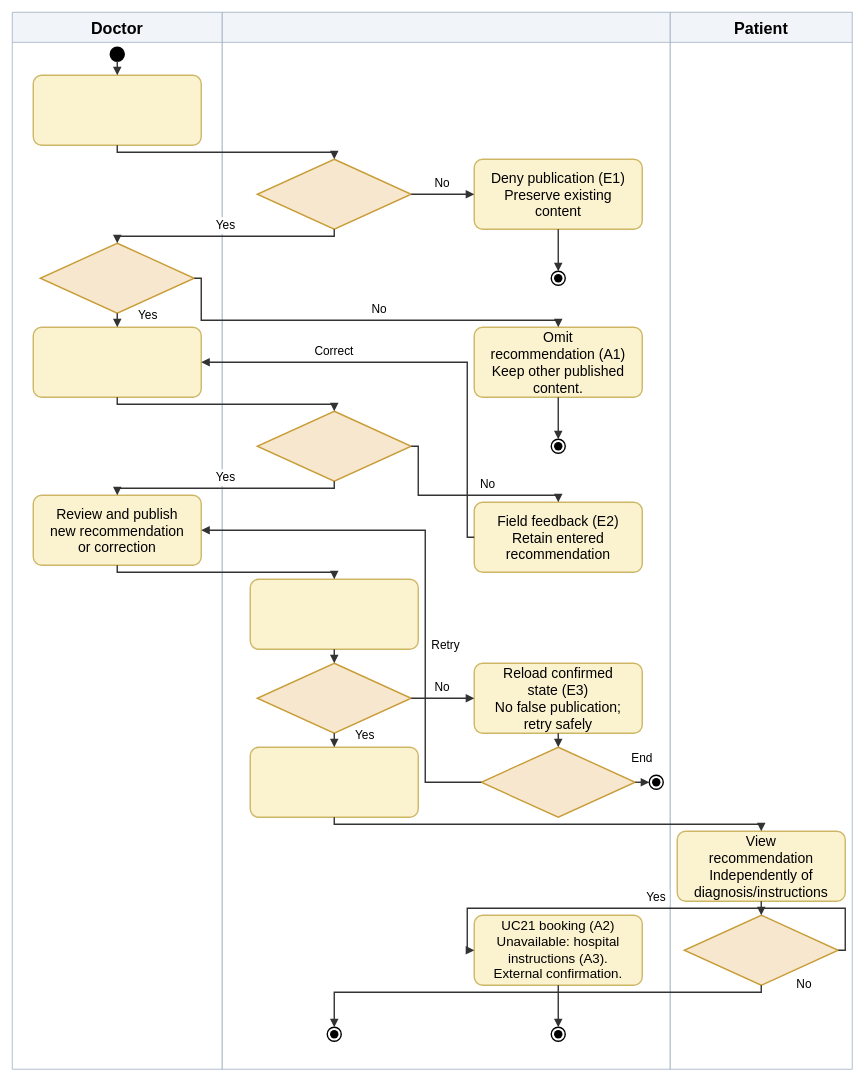
The diagram is 865 pixels wide and 1082 high, and some of its shapes have lost their labels. Here are the shapes that lost their labels. From the top down, the box of each, then its label:
(32, 74, 202, 146): Open relevant Visit
(256, 158, 412, 230): Authorized for Visit and publication?
(39, 242, 195, 314): Follow-up required?
(32, 326, 202, 398): Enter department, date/interval and approved explanation
(256, 410, 412, 482): Recommendation data valid?
(222, 12, 670, 1069): System
(249, 578, 419, 650): Save against same Visit Record source and publication date
(256, 662, 412, 734): Publication confirmed?
(249, 746, 419, 818): Make available; notify Patient. Keep content if delivery fails (E4).
(480, 746, 636, 818): Retry publication?
(683, 914, 839, 986): Patient chooses booking handoff?
